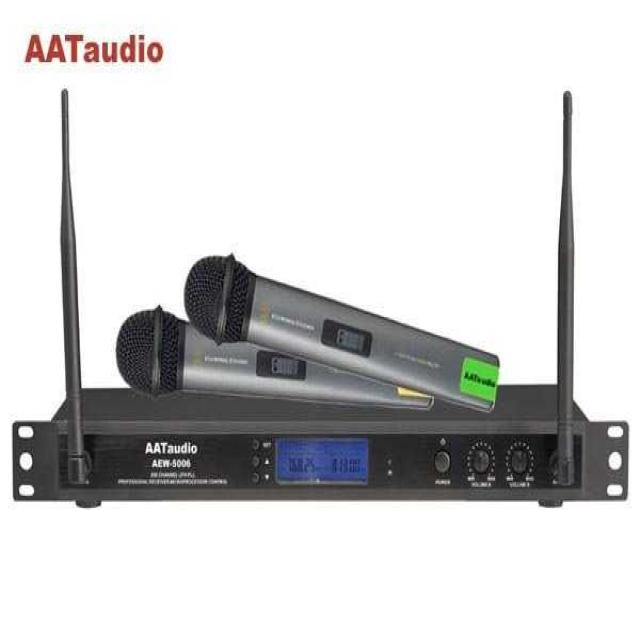microphone: (173, 250, 493, 412), (110, 258, 294, 402)
